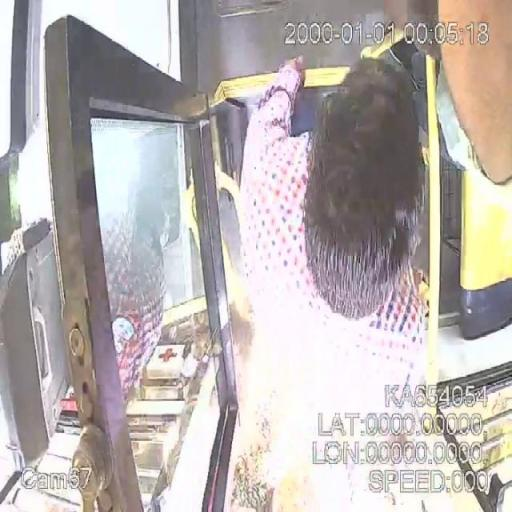persona: (226, 52, 445, 510)
